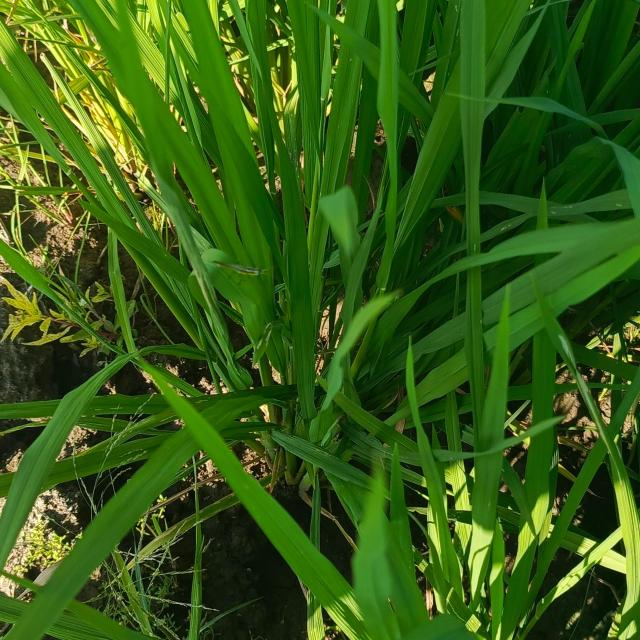belalang pada tanaman padi: (209, 246, 281, 290)
